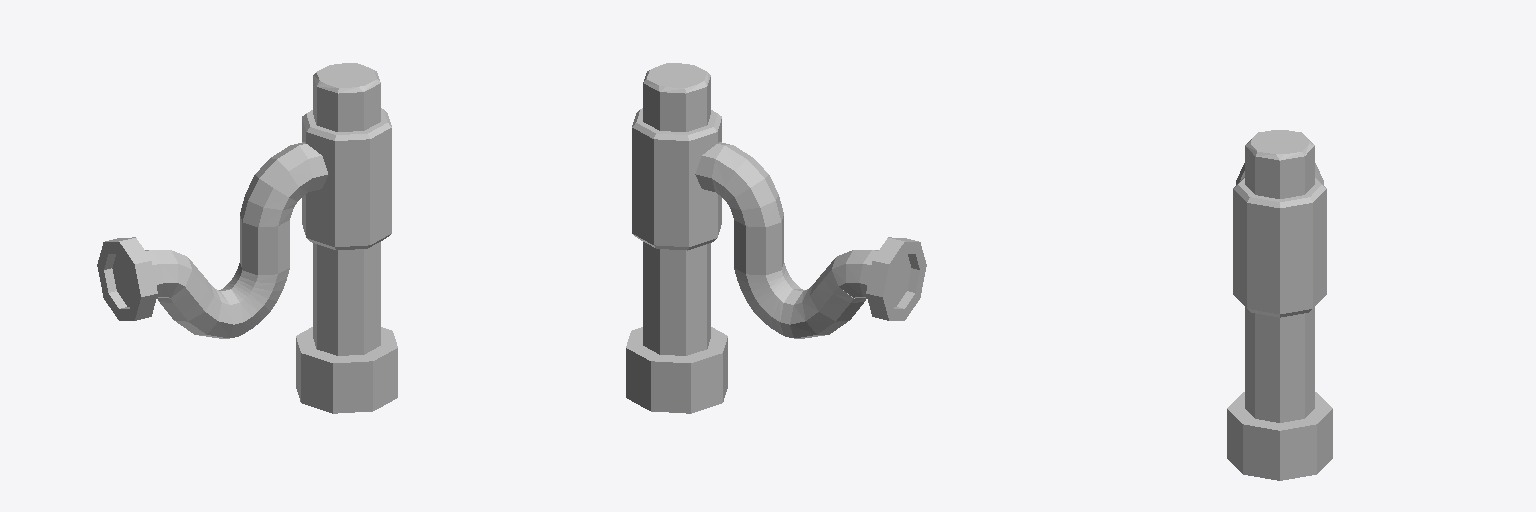
Rendered from zaprawka.OBJ.
3 views of the same model, side by side, from view 1: azimuth 30°, elevation 25°; view 2: azimuth 150°, elevation 25°; view 3: azimuth 270°, elevation 25° (orthographic).
Visible parts, largest first — view 1: Group25569; view 2: Group25569; view 3: Group25569.
Boxes of the visible parts, <box> form: Group25569: <box>97,63,397,413</box>; Group25569: <box>626,63,926,413</box>; Group25569: <box>1227,130,1332,480</box>.
Bounding box in the file's own units: 1.81 × 2 × 0.6057.